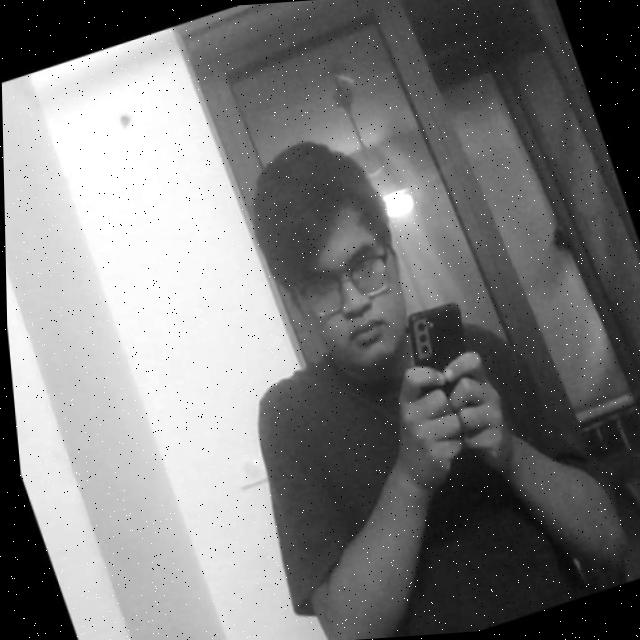phone: (383, 280, 504, 431)
